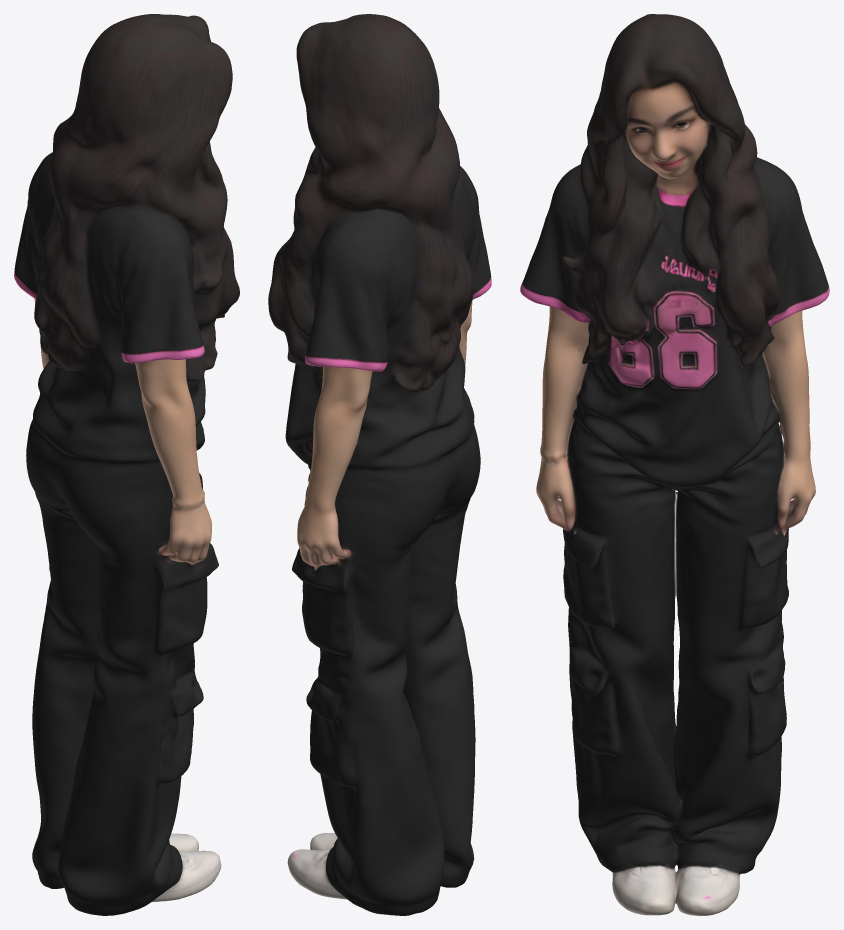
The model's file is ac2c5bdf-e0a2-4eaf-87bd-d404d3a6e5b8_0.fbx.
3 renders of one model, left to right at view 1: azimuth 30°, elevation 25°; view 2: azimuth 150°, elevation 25°; view 3: azimuth 270°, elevation 25°, orthographic.
Parts seen in each view (by area): view 1: tripo_node_17682c01; view 2: tripo_node_17682c01; view 3: tripo_node_17682c01.
Boxes of the visible parts, left/top/right/bottom form: tripo_node_17682c01: left=14, top=14, right=239, bottom=915; tripo_node_17682c01: left=268, top=14, right=491, bottom=915; tripo_node_17682c01: left=520, top=14, right=829, bottom=915.
Bounding box in the file's own units: 20.29 × 99.95 × 32.21.
1 material, 1 textured.
